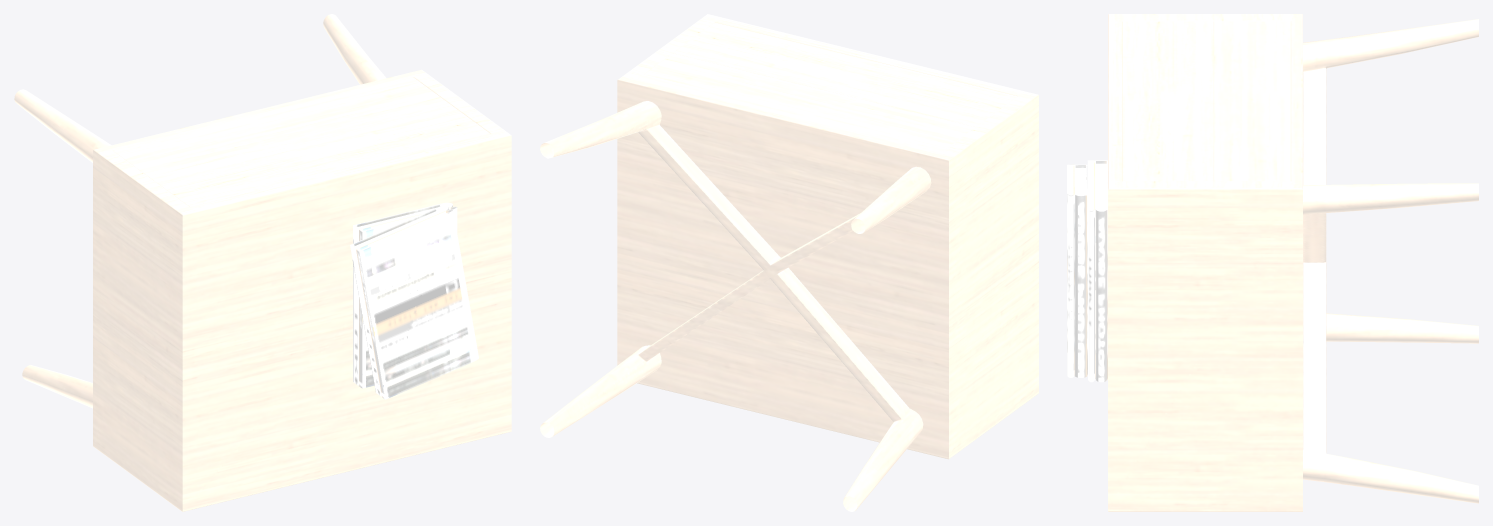
Rendered from raw_model.glb.
3 views of the same model, side by side, from view 1: azimuth 30°, elevation 25°; view 2: azimuth 150°, elevation 25°; view 3: azimuth 270°, elevation 25° (orthographic). The views are drawn at different scales.
Visible parts, largest first — view 1: raw_model.034; view 2: raw_model.034; view 3: raw_model.034.
Part boxes in pixels (left/top/right/bottom): raw_model.034: left=14, top=14, right=511, bottom=511; raw_model.034: left=540, top=14, right=1038, bottom=511; raw_model.034: left=1067, top=14, right=1478, bottom=511.
Bounding box in the file's own units: 0.6268 × 0.5427 × 0.6236.
1 material, 1 textured.
